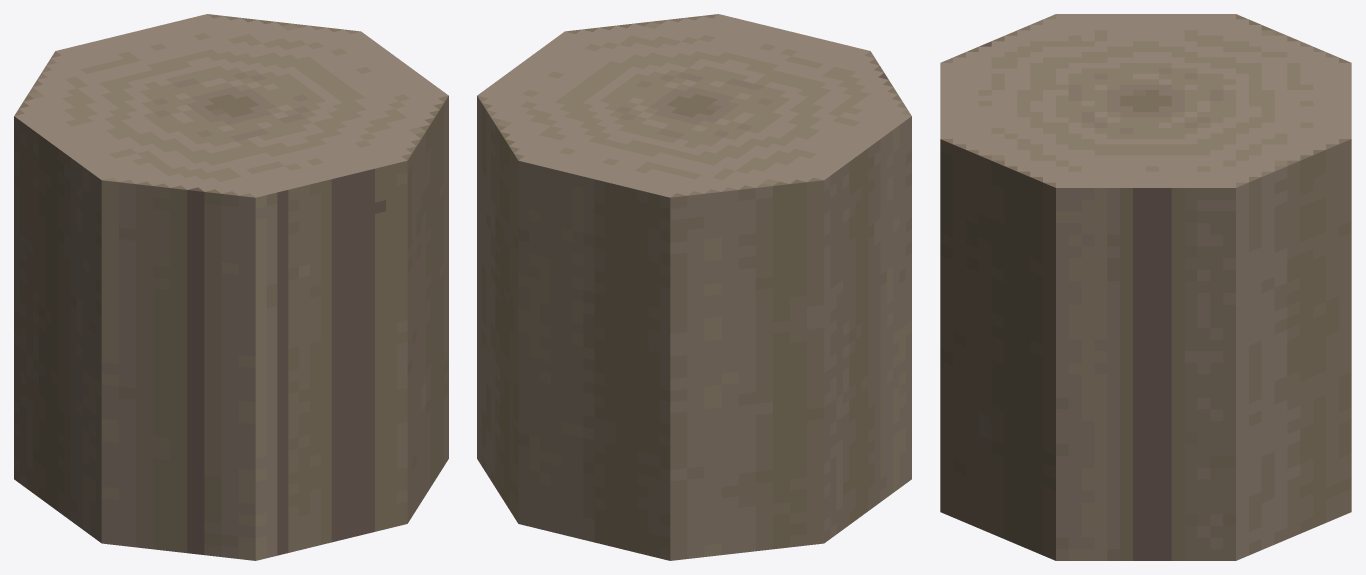
The model's file is oak.octagon.glb.
3 views of the same model, side by side, from view 1: azimuth 30°, elevation 25°; view 2: azimuth 150°, elevation 25°; view 3: azimuth 270°, elevation 25° (orthographic). The views are drawn at different scales.
Bounding box in the file's own units: 1 × 1 × 1.
